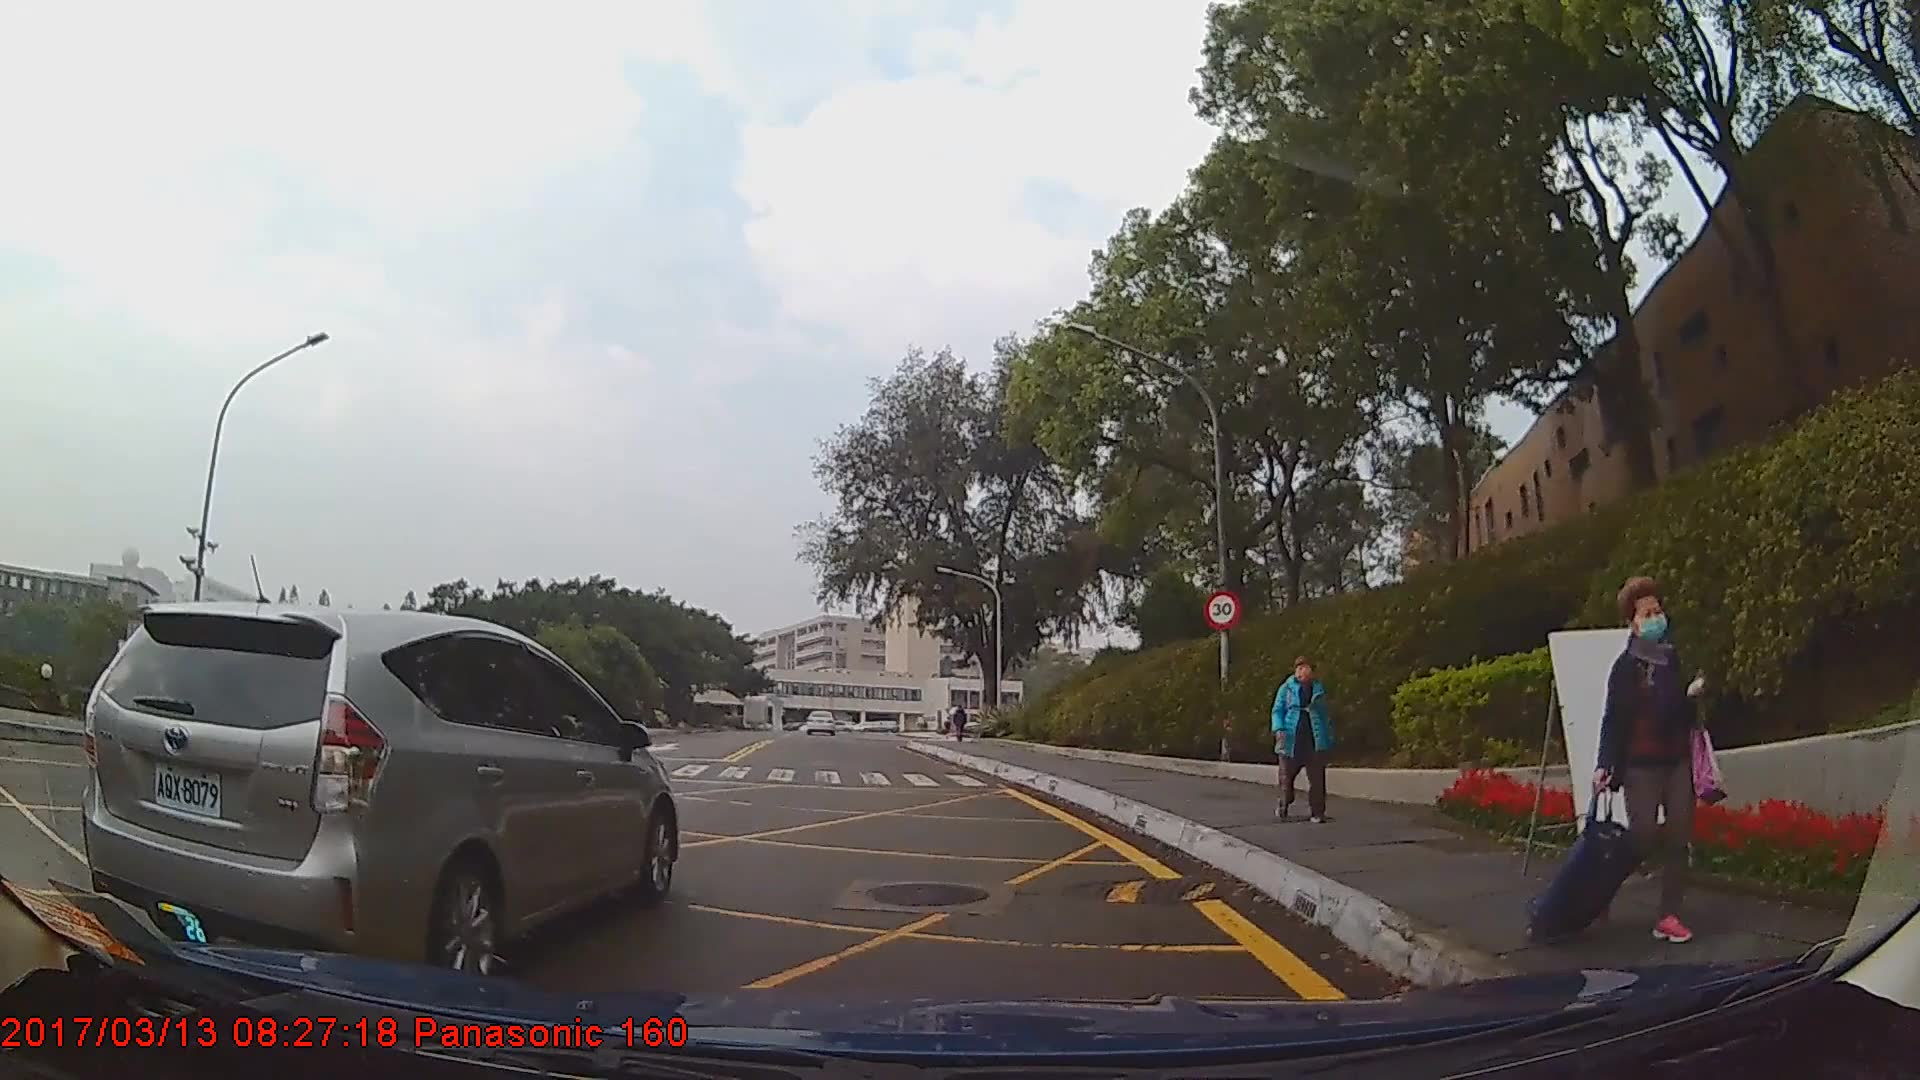pedestrian: (1524, 572, 1733, 960), (1269, 655, 1334, 824)
vehicle: (78, 595, 679, 980), (802, 708, 836, 735)
